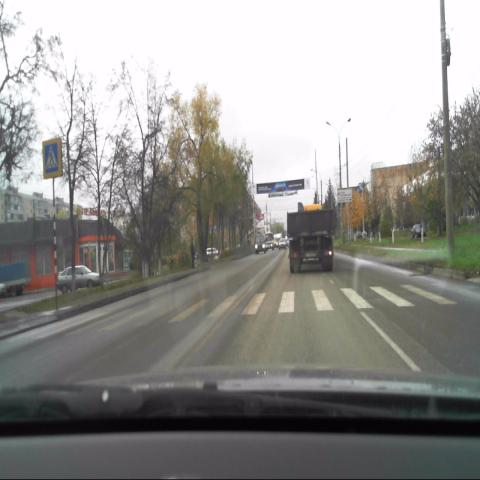5_19_1: (42, 137, 63, 179)
